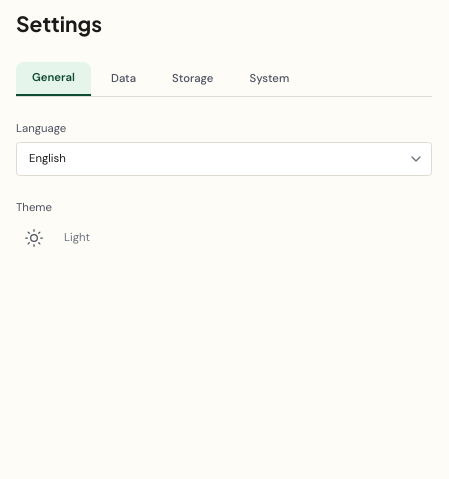
Test case: SettingsPage › renders check for updates button on System tab
Click the tab "System" at (269, 79), box [234,62,305,96]
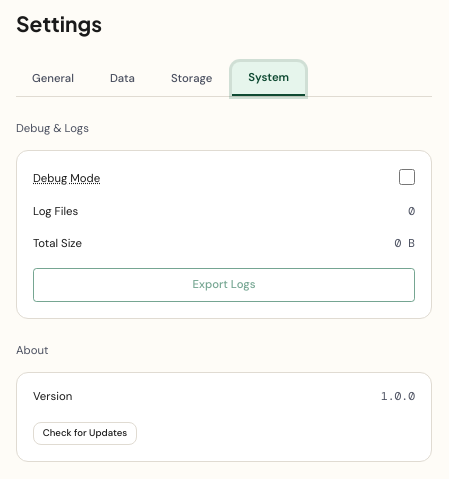
Expected: the button "Check for Updates" is shown, [33,422,137,445]
